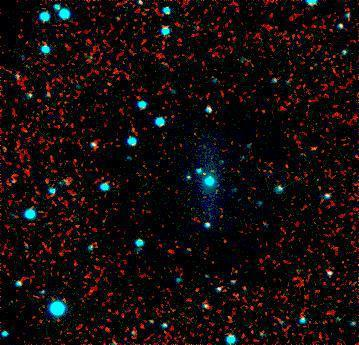star: (188, 155, 218, 185)
